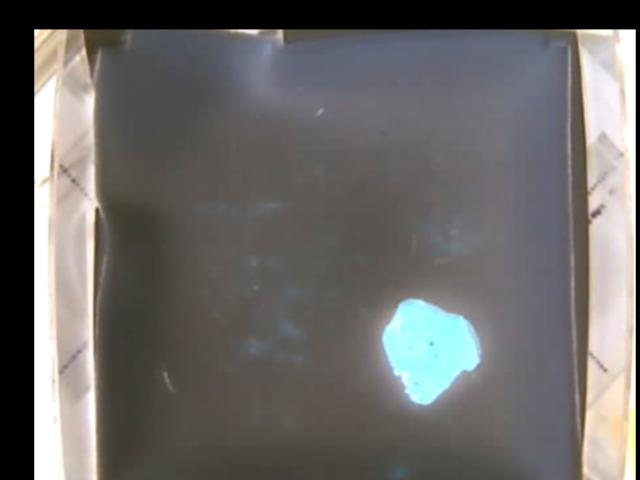Brisk: (383, 301, 481, 405)
